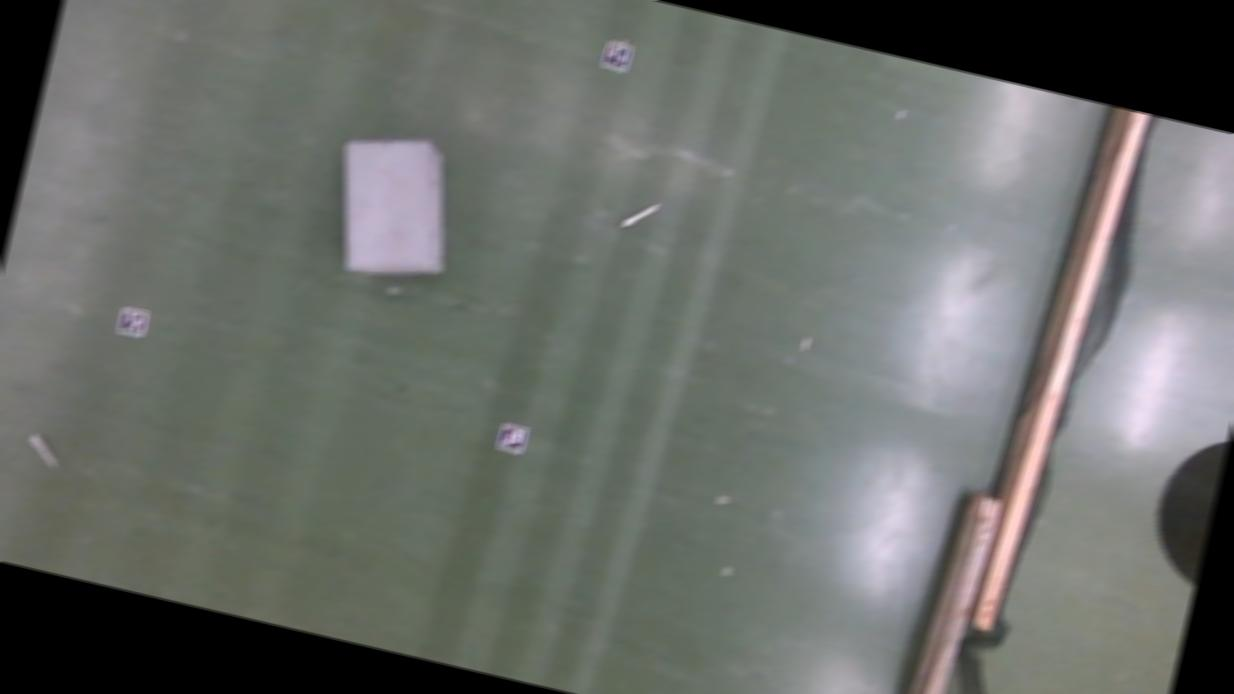probes: (621, 195, 660, 234), (28, 432, 64, 468)
rako: (317, 118, 472, 290)
